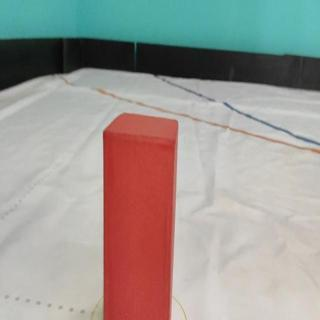redbox: (103, 111, 177, 320)
